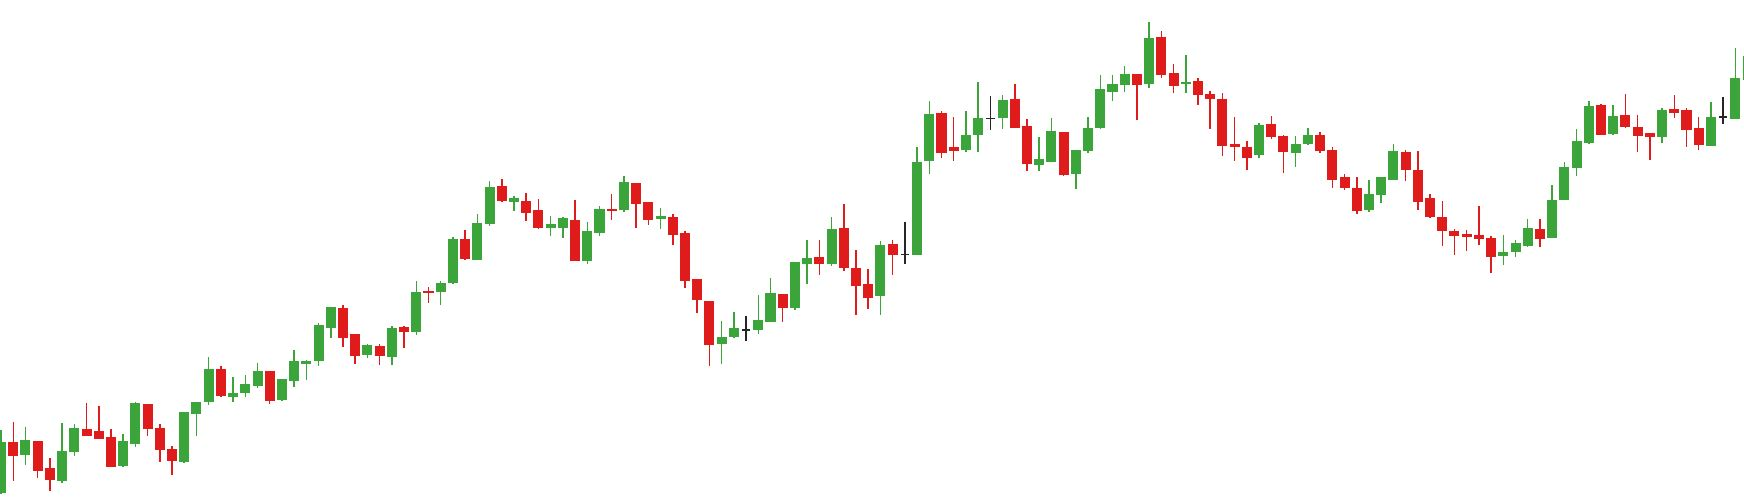buy: (106, 419, 194, 477)
